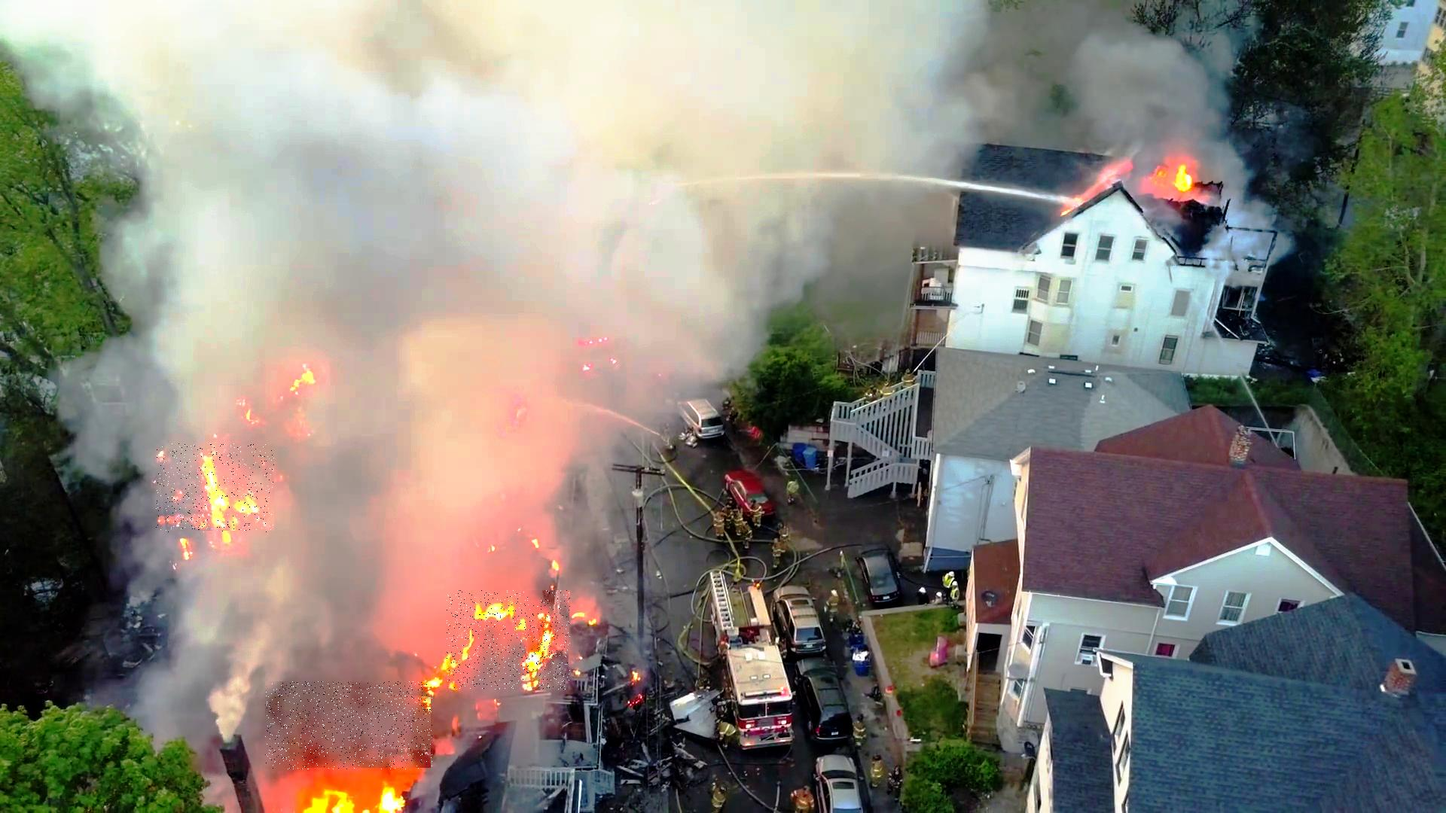fire: (447, 590, 570, 690), (156, 444, 274, 533)
smoke: (266, 682, 433, 770)
